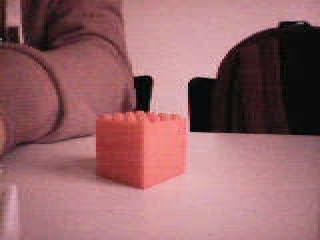legocube: (94, 109, 191, 192)
